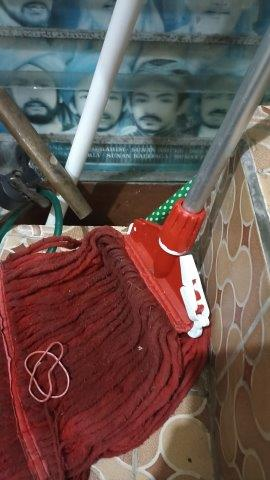karet: (24, 341, 70, 403)
